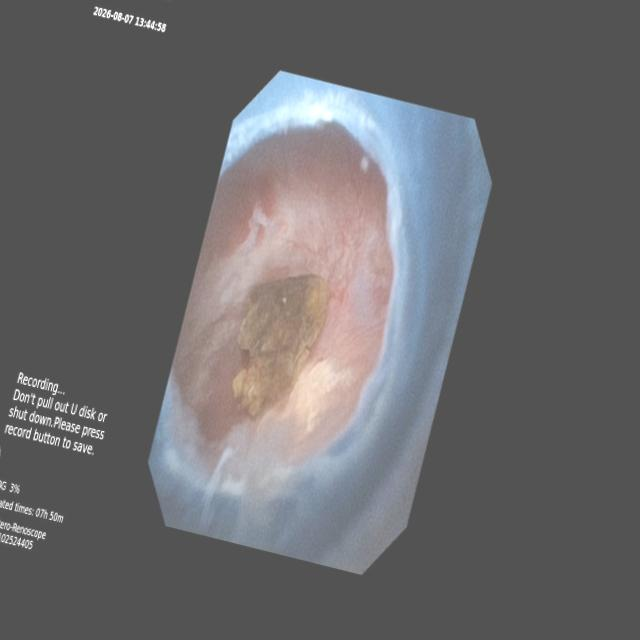stone-new: (232, 274, 328, 416)
